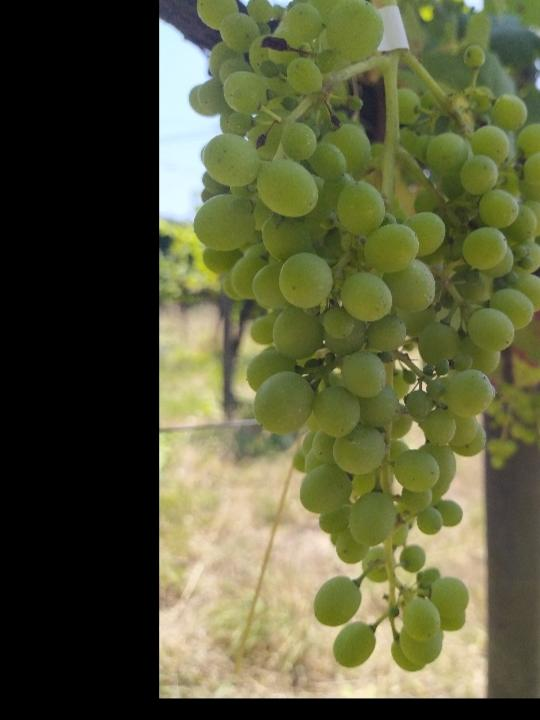grape: (187, 0, 540, 676)
